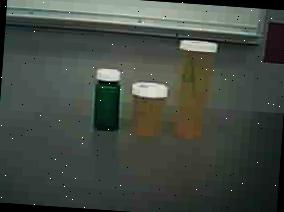Bottle A: (170, 34, 228, 147)
Bottle B: (127, 78, 170, 138)
Bottle C: (88, 61, 128, 134)
